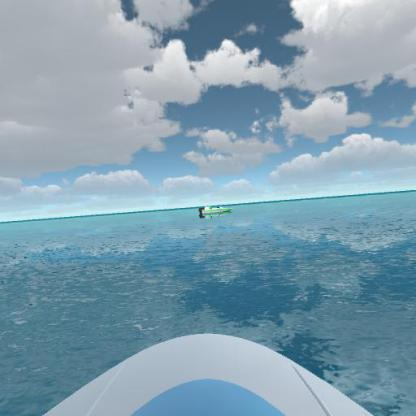usv0: (194, 200, 239, 218)
